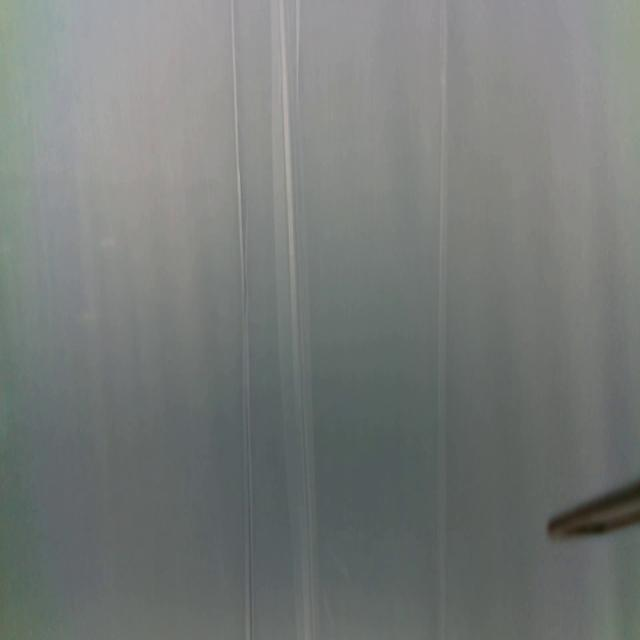crease: (271, 2, 322, 638), (230, 0, 255, 640), (435, 0, 451, 640)
